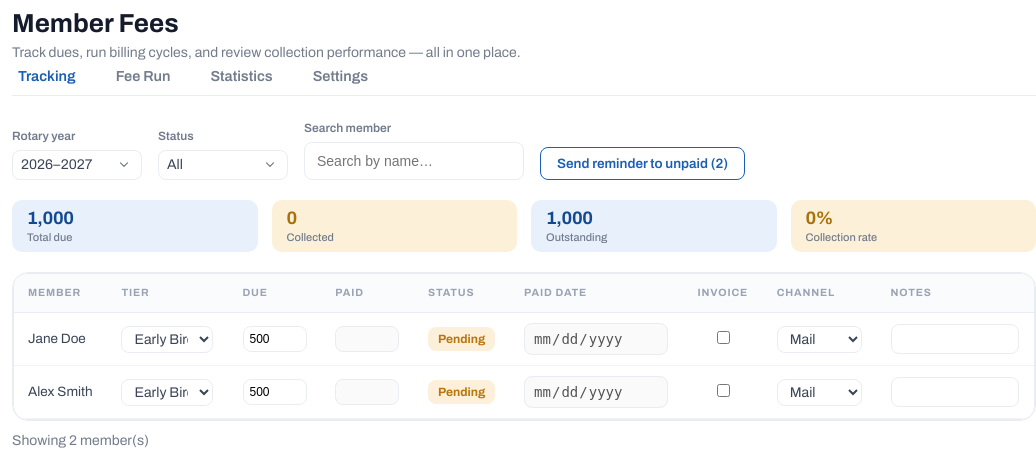
Test: MemberFees › Tracking tab › filters by search text
This screenshot has width=1036, height=465.
Check: the text "Jane Doe" is shown, box [14, 313, 108, 366]
Check: the text "Alex Smith" is shown, box [14, 366, 108, 419]
Type "Alex" into the field labelled "Search member" at (414, 161), box [304, 142, 524, 180]
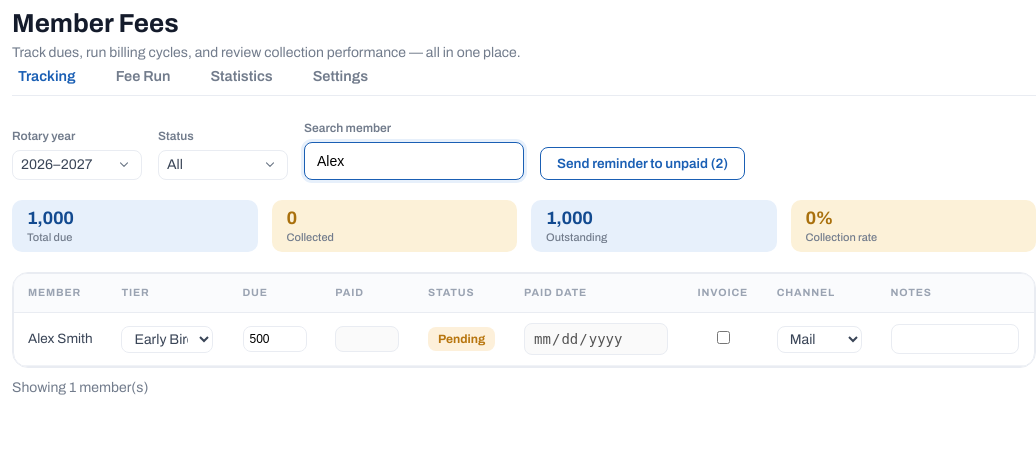
Check: the text "Alex Smith" is shown, box [14, 313, 108, 366]
Check: the text "Jane Doe" is gone
